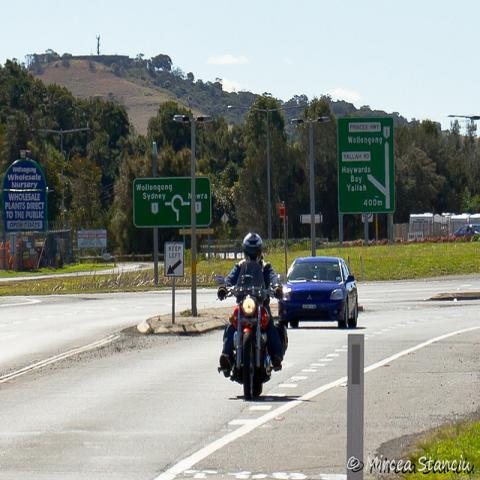car: (278, 258, 360, 329), (453, 223, 480, 236)
motorcycle: (227, 280, 277, 403)
truck: (449, 212, 479, 237)
